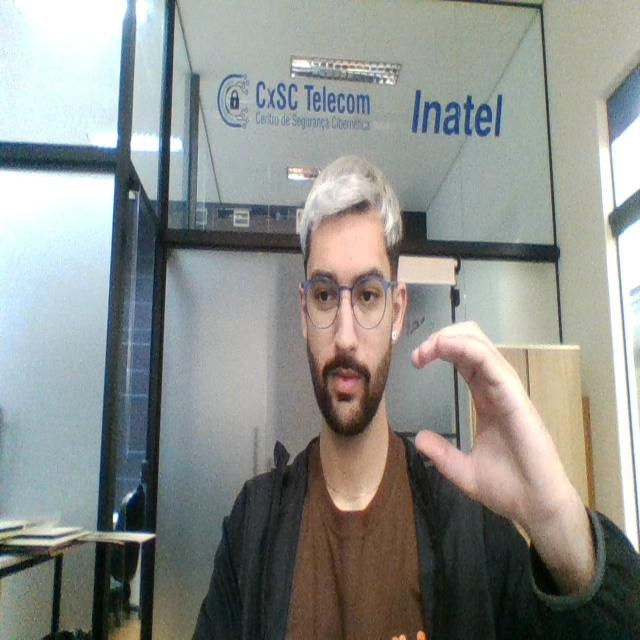C: (405, 306, 548, 522)
